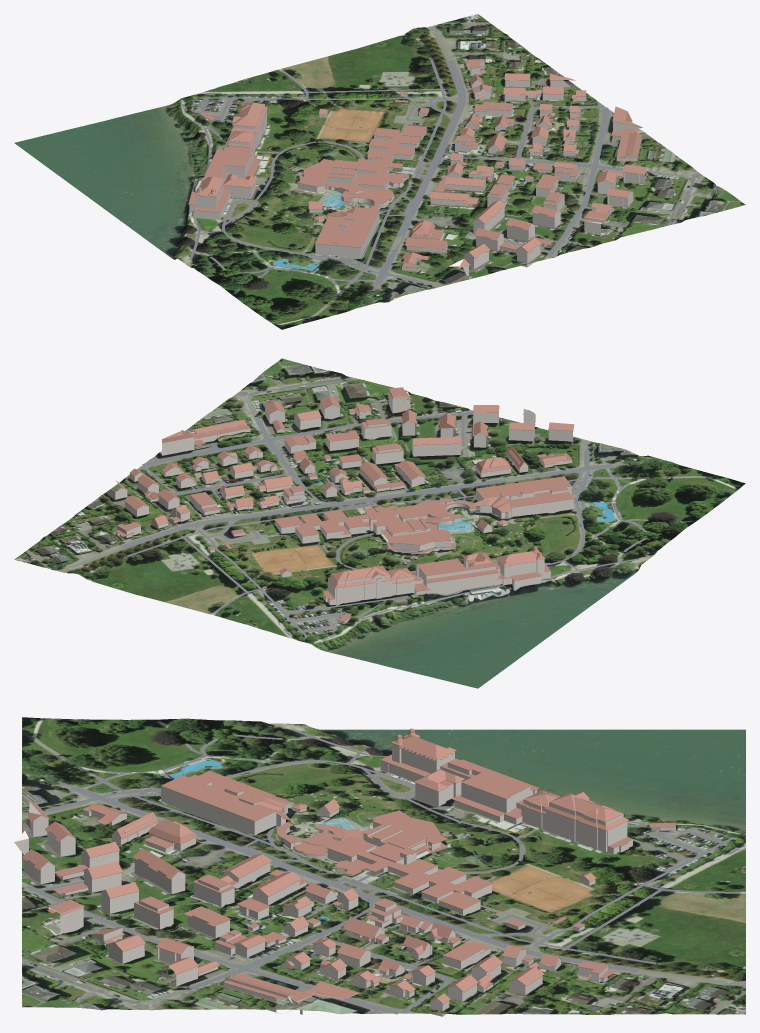
The model's file is verbund_sole_uno.glb.
The picture shows the model from 3 angles, top to bottom: view 1: azimuth 30°, elevation 25°; view 2: azimuth 150°, elevation 25°; view 3: azimuth 270°, elevation 25°; orthographic projection. The views are drawn at different scales.
Parts seen in each view (by area): view 1: terrain_ground, neighborhood_buildings_roofs, neighborhood_buildings_walls, osm_roads; view 2: terrain_ground, neighborhood_buildings_roofs, neighborhood_buildings_walls, osm_roads; view 3: terrain_ground, neighborhood_buildings_roofs, neighborhood_buildings_walls, osm_roads.
Boxes of the visible parts, left/top/right/bottom form: terrain_ground: left=14, top=14, right=745, bottom=329; neighborhood_buildings_roofs: left=188, top=59, right=646, bottom=268; neighborhood_buildings_walls: left=189, top=62, right=648, bottom=275; osm_roads: left=182, top=59, right=647, bottom=285; terrain_ground: left=14, top=358, right=745, bottom=688; neighborhood_buildings_roofs: left=115, top=387, right=574, bottom=621; neighborhood_buildings_walls: left=115, top=391, right=573, bottom=624; osm_roads: left=114, top=408, right=647, bottom=640; terrain_ground: left=22, top=717, right=745, bottom=1014; neighborhood_buildings_roofs: left=21, top=728, right=675, bottom=1004; neighborhood_buildings_walls: left=14, top=732, right=675, bottom=1016; osm_roads: left=25, top=728, right=740, bottom=1014.
Bounding box in the file's own units: 401 × 30.85 × 404.
Materials: 5 (1 with a texture image).
